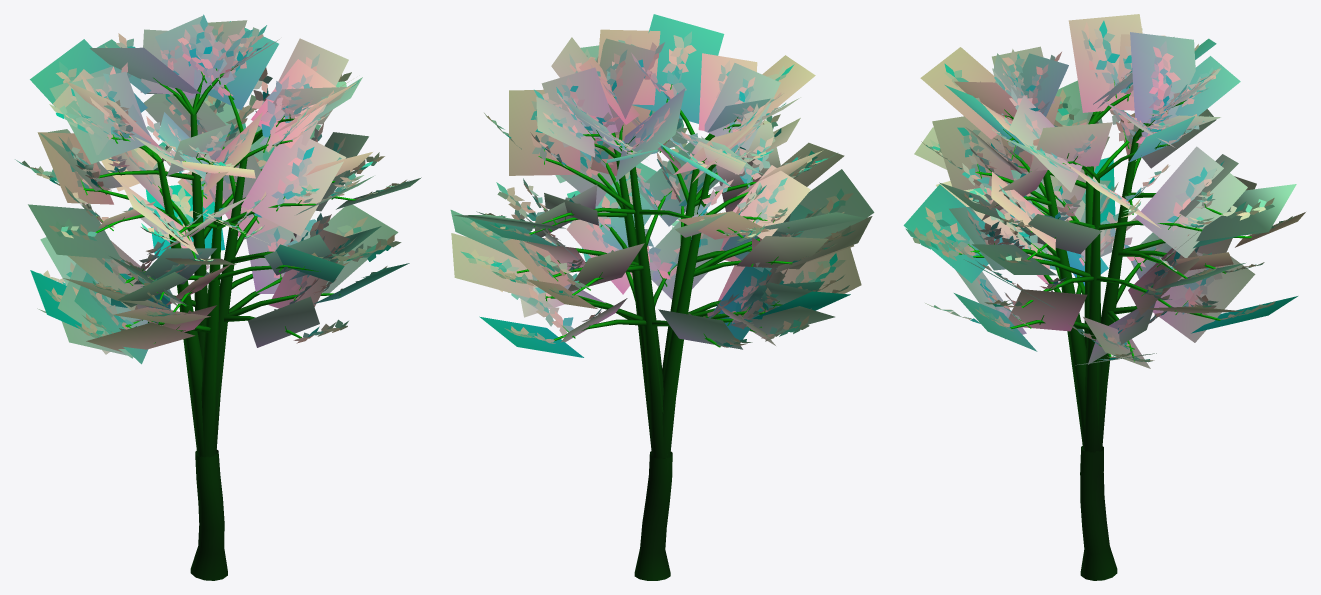
Rendered from shade_1.glb.
3 views of the same model, side by side, from view 1: azimuth 30°, elevation 25°; view 2: azimuth 150°, elevation 25°; view 3: azimuth 270°, elevation 25° (orthographic). The views are drawn at different scales.
Visible parts, largest first — view 1: mid, near; view 2: mid, near; view 3: mid, near.
Boxes of the visible parts, x1,y1,x2,y2 form: mid: (28, 16, 421, 457); near: (15, 14, 409, 580); mid: (450, 14, 874, 459); near: (460, 31, 855, 580); mid: (903, 14, 1305, 452); near: (905, 20, 1294, 580).
Size of the model in its own units: 9.29 by 12.66 by 8.93.
